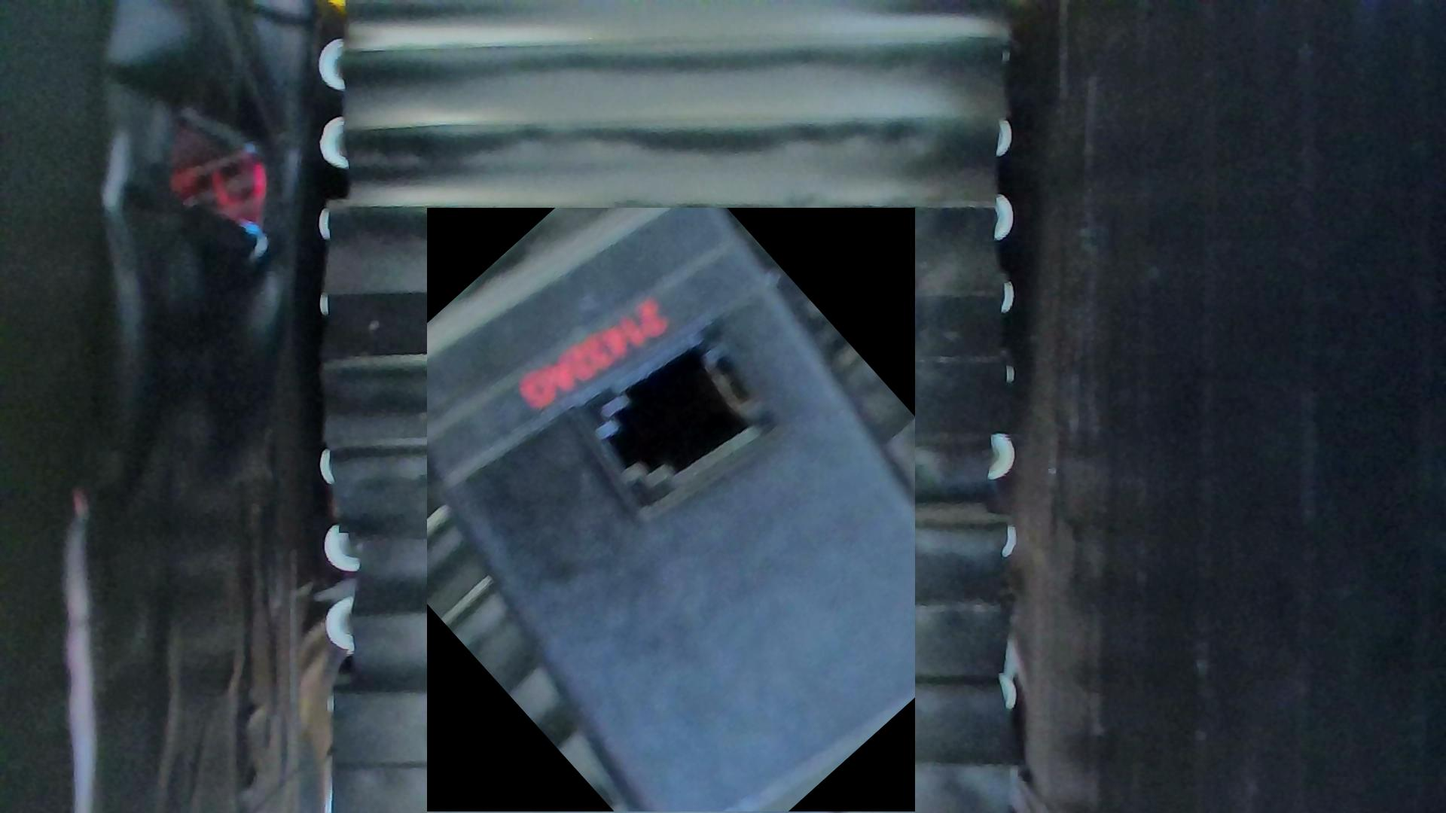motor: (427, 208, 915, 813)
